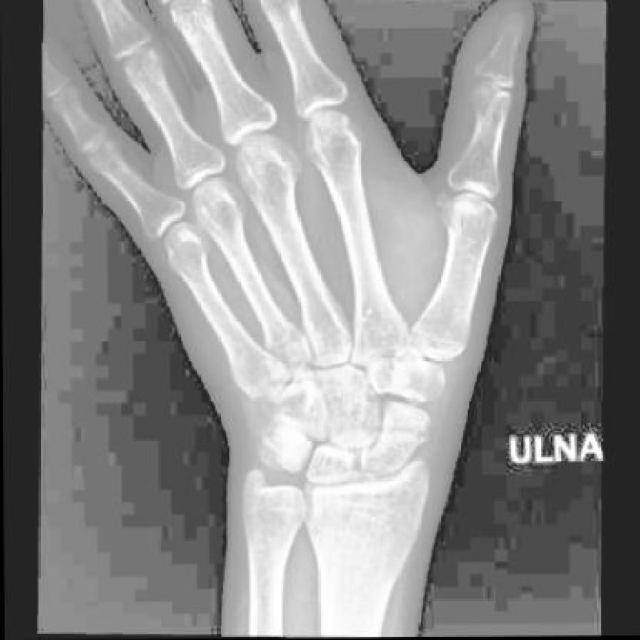Fracture: (370, 419, 430, 447)
